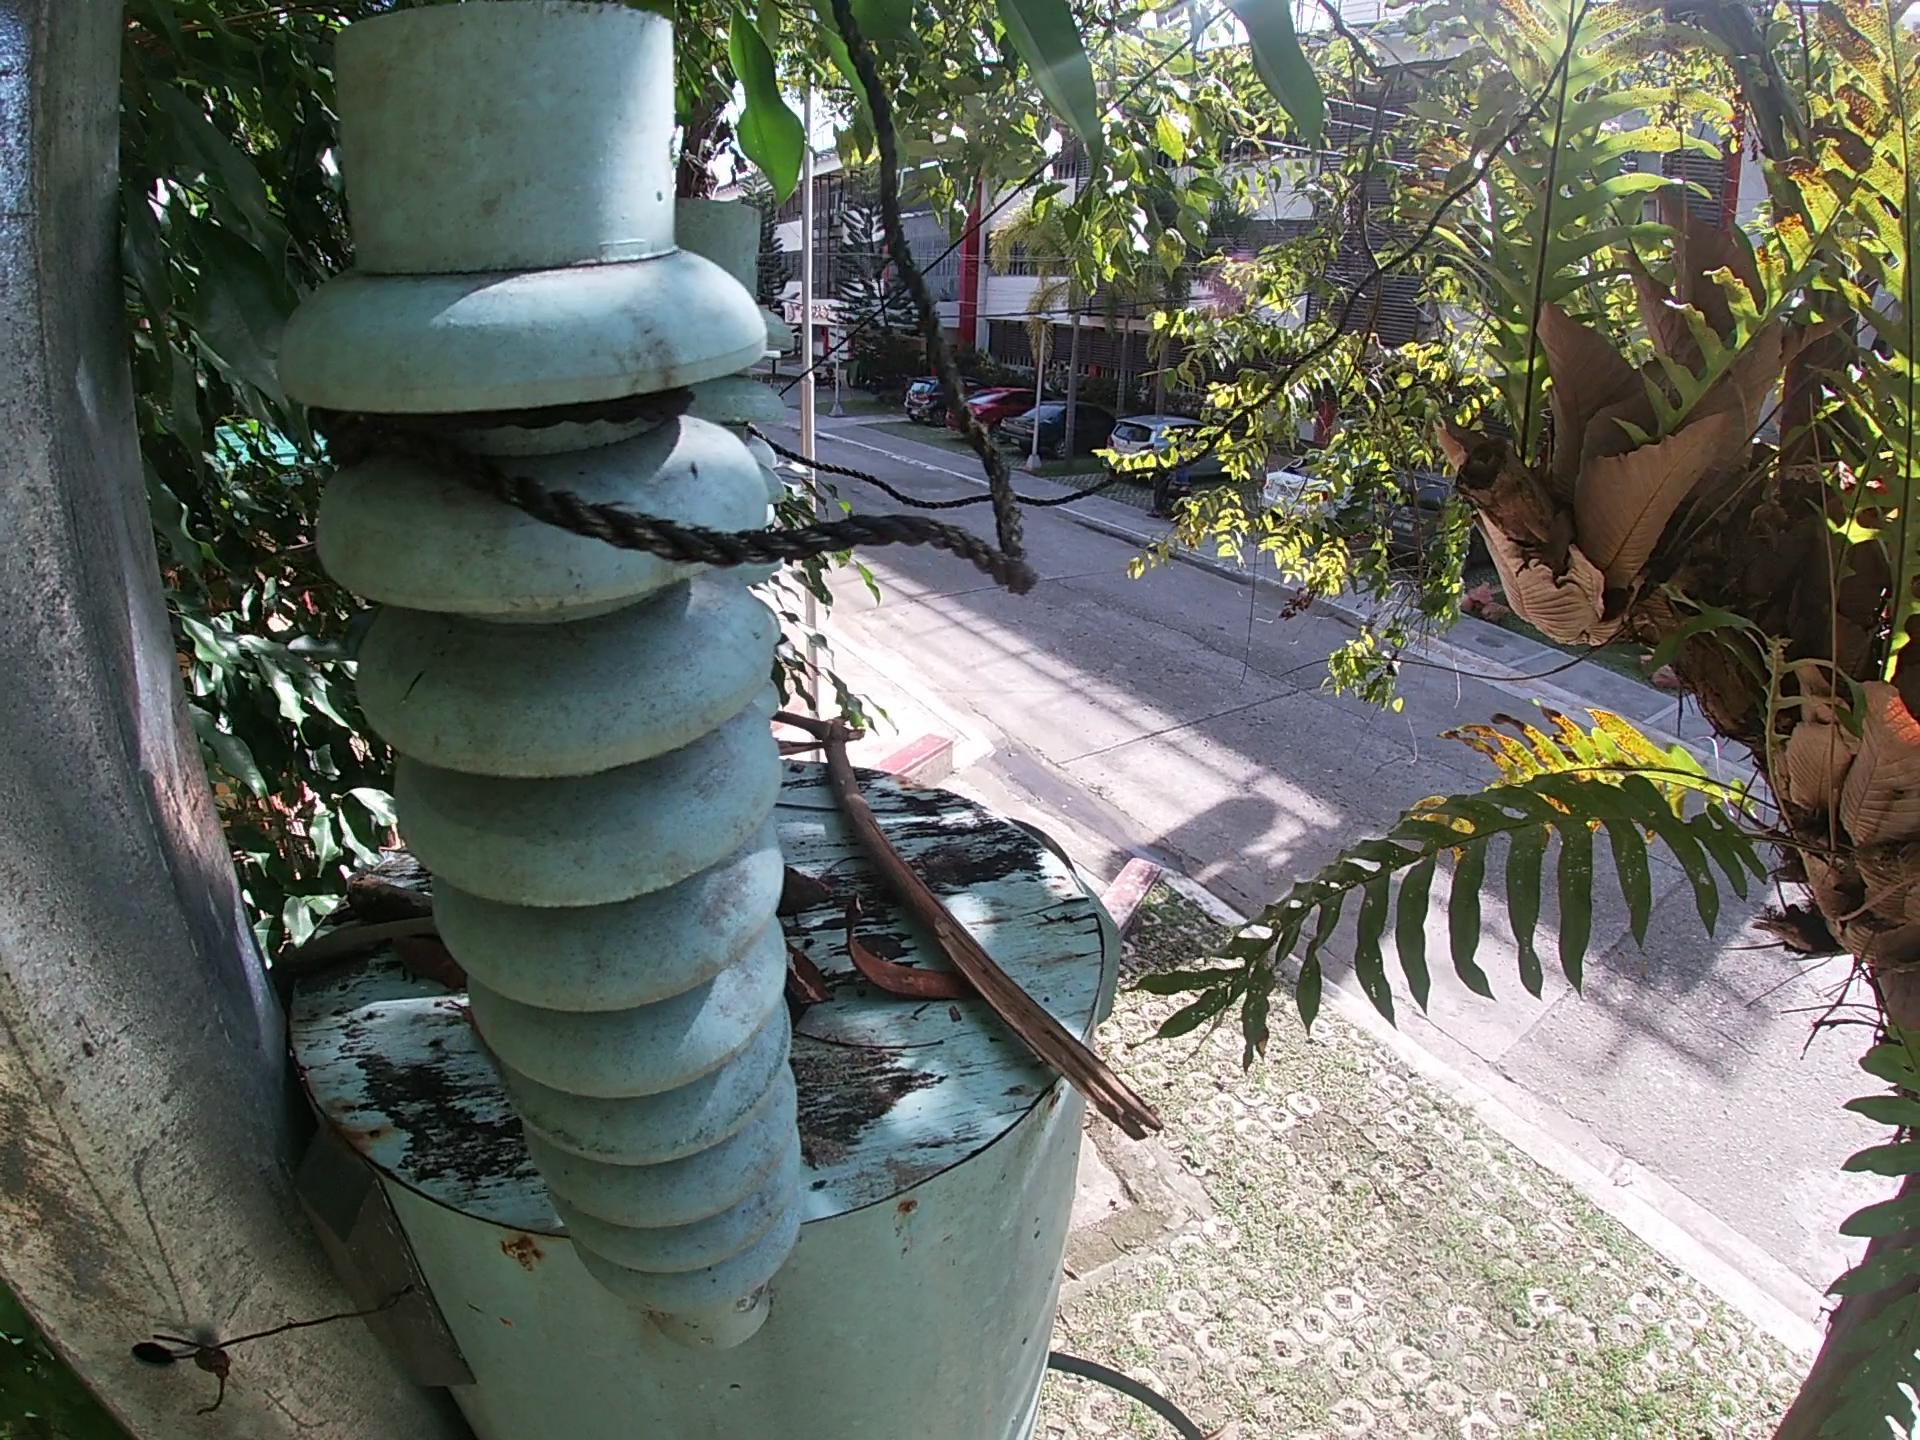leaf: (386, 933, 469, 988)
mahogany fruit: (842, 889, 977, 1007), (782, 936, 848, 1021), (766, 855, 842, 921)
tree branch: (770, 702, 1169, 1153), (283, 912, 444, 976), (337, 867, 437, 926)
